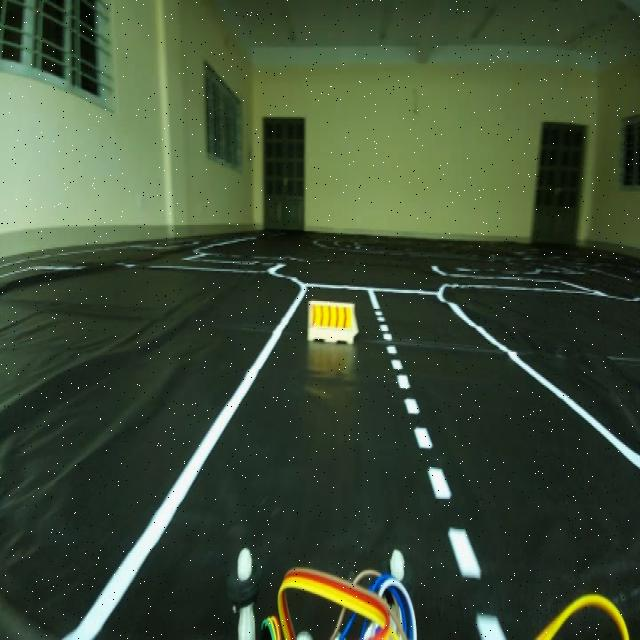roadblock: (304, 293, 356, 358)
